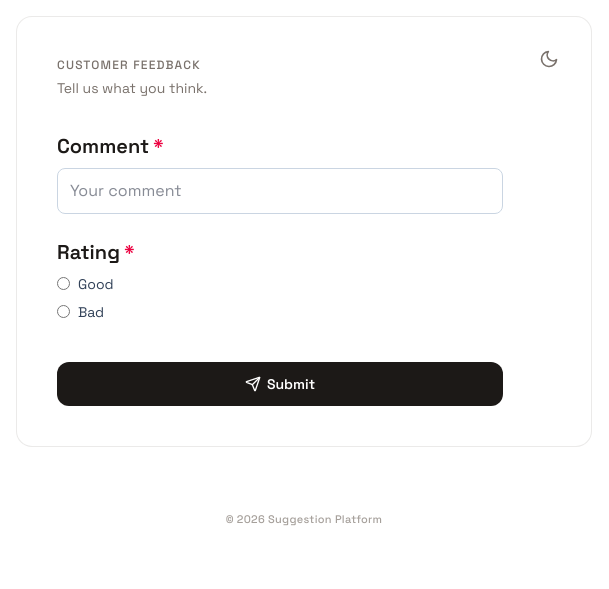
Test case: FormRenderPage › submit without required field shows validation error and highlights invalid field
Click the button "Submit" at (280, 384), box top-left (57, 362), bottom-right (503, 406)
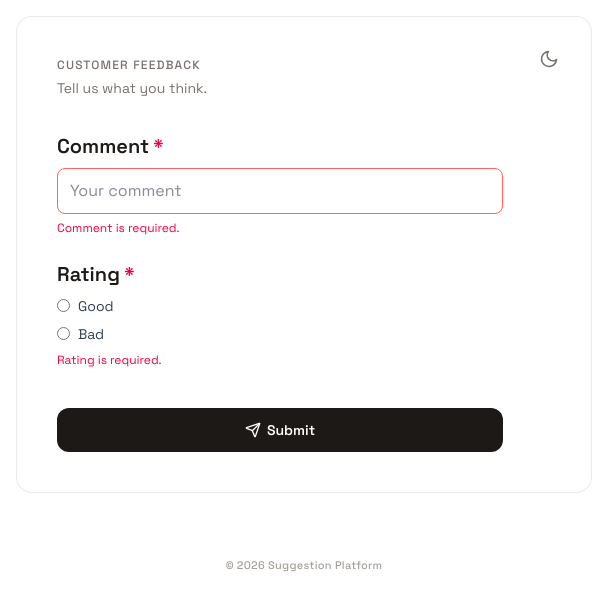
Expected: the text "Customer Feedback" is shown, top-left (57, 57), bottom-right (201, 73)
Now the text "Comment is required." is shown, box top-left (57, 220), bottom-right (180, 236)
